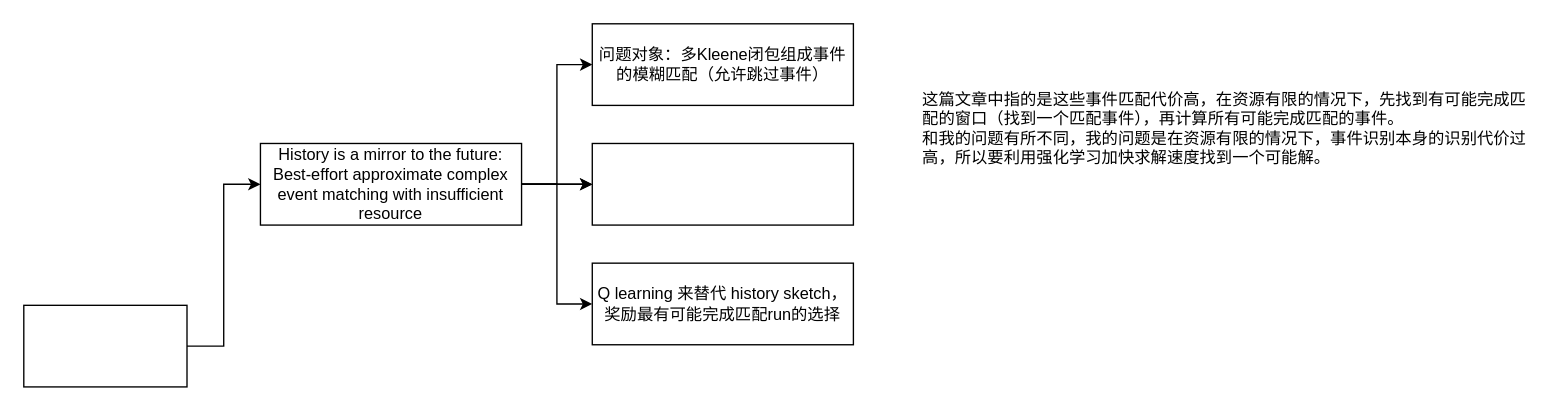
This 1563x411 diagram has some shape labels left out. Here are the shapes that lost their labels. From the top down, the centre of each, then its label:
At point 722,183: "利用A*搜索最有可能完成匹配的runs".
At point 104,345: "CER&RL".
